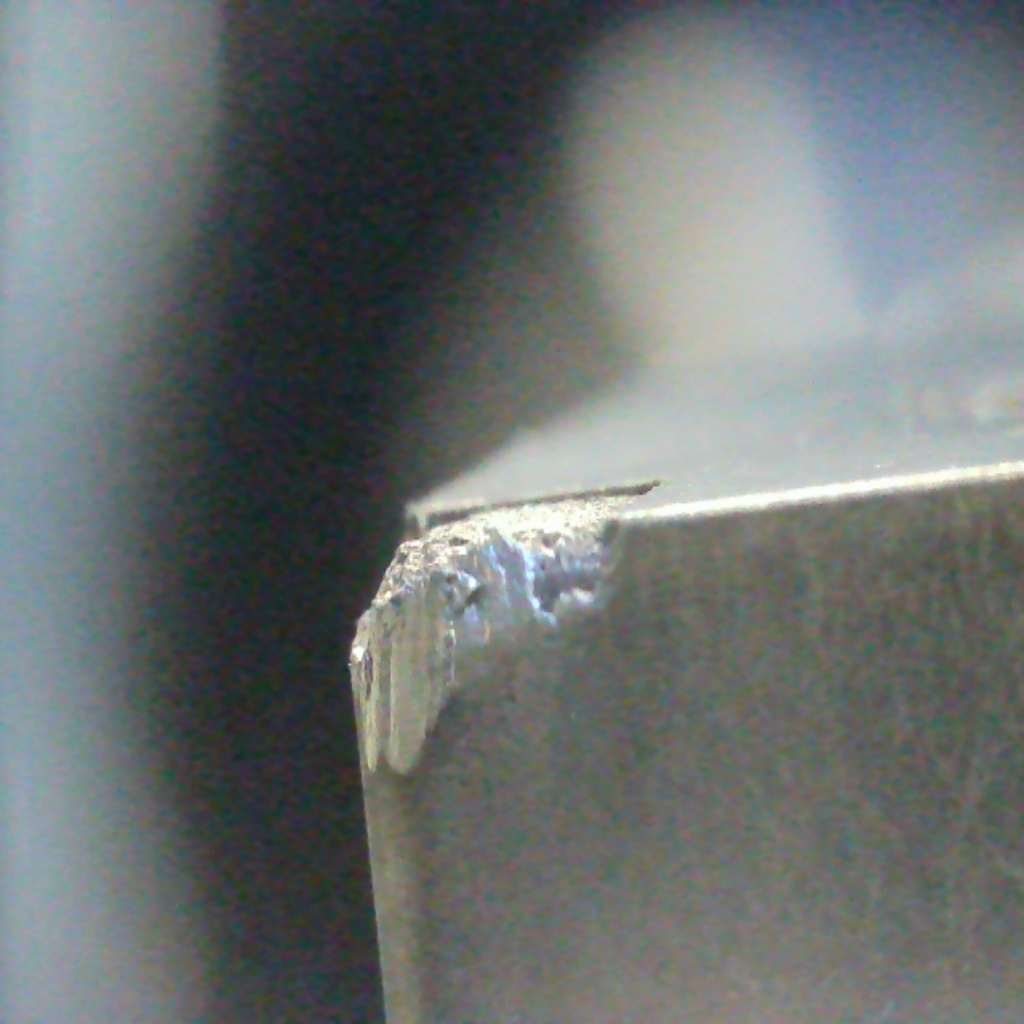flank_wear: (352, 563, 472, 791)
